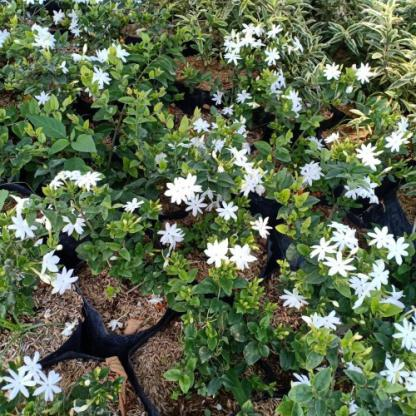Melati: (78, 49, 131, 90), (202, 240, 251, 282), (226, 148, 267, 193), (371, 221, 410, 267), (318, 238, 358, 282), (209, 86, 251, 127), (52, 168, 98, 204), (39, 246, 73, 283), (230, 24, 271, 49), (167, 172, 196, 198), (346, 140, 375, 165)
